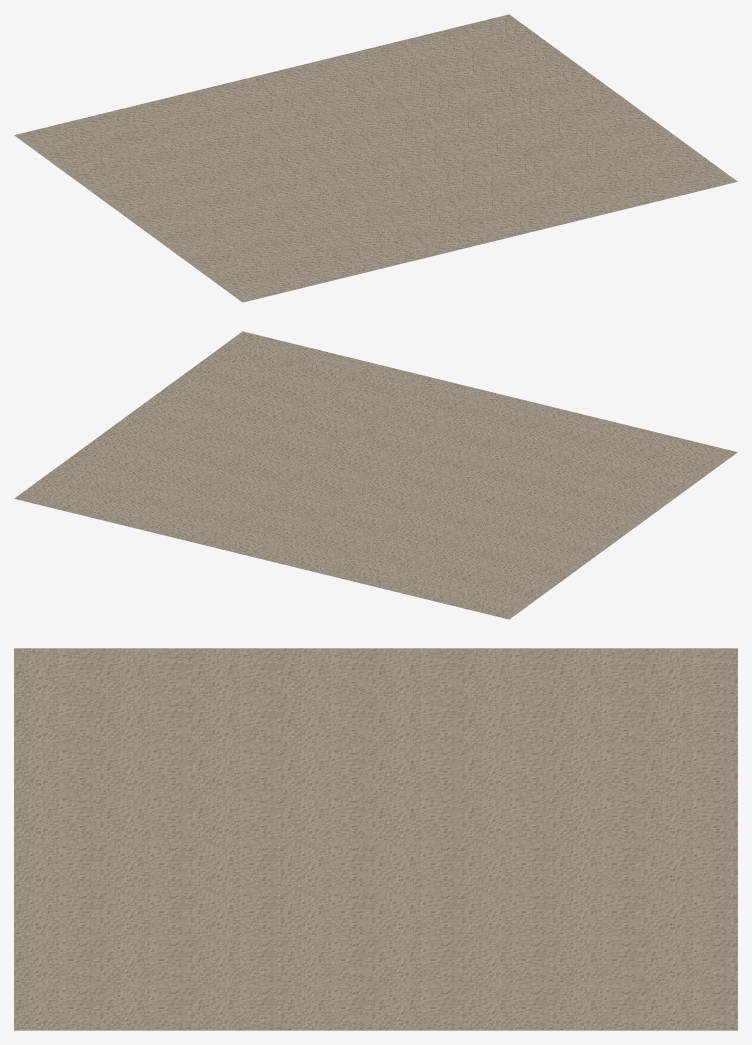
Rendered from sbsbed3law2.obj.
3 views of the same model, one above another, from view 1: azimuth 30°, elevation 25°; view 2: azimuth 150°, elevation 25°; view 3: azimuth 270°, elevation 25° (orthographic). The views are drawn at different scales.
Visible parts, largest first — view 1: sbsbed3law2; view 2: sbsbed3law2; view 3: sbsbed3law2.
Part boxes in pixels (x1,y1,x2,y2): sbsbed3law2: (14,14,737,302); sbsbed3law2: (14,331,737,619); sbsbed3law2: (14,648,737,1030).
Size of the model in its own units: 248 by 0 by 199.
Materials: 1 (1 with a texture image).
